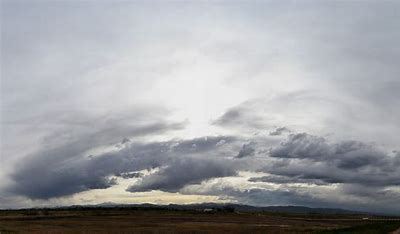Stratus: (8, 102, 400, 212)
